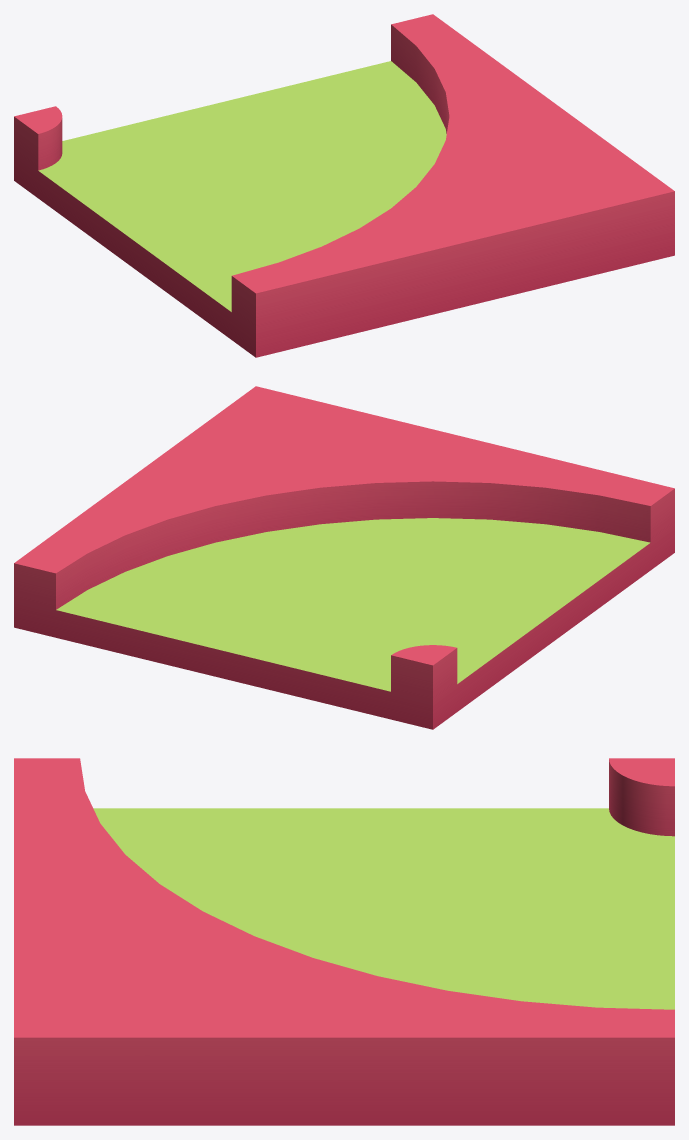
File: round-corner-b.gltf
3 renders of one model, top to bottom at view 1: azimuth 30°, elevation 25°; view 2: azimuth 150°, elevation 25°; view 3: azimuth 270°, elevation 25°, orthographic. The views are drawn at different scales.
Visible parts, largest first — view 1: round-corner-b; view 2: round-corner-b; view 3: round-corner-b.
Part boxes in pixels (x1,y1,x2,y2): round-corner-b: [14, 14, 674, 357]; round-corner-b: [14, 386, 674, 729]; round-corner-b: [14, 758, 674, 1125].
Bounding box in the file's own units: 0.9999 × 0.1467 × 0.9999.
1 material, 1 textured.
